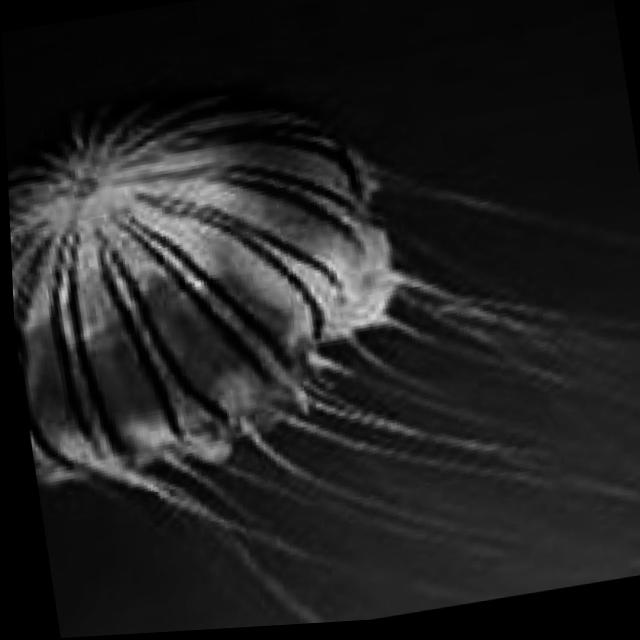Box-jellyfish: (2, 24, 640, 640)
